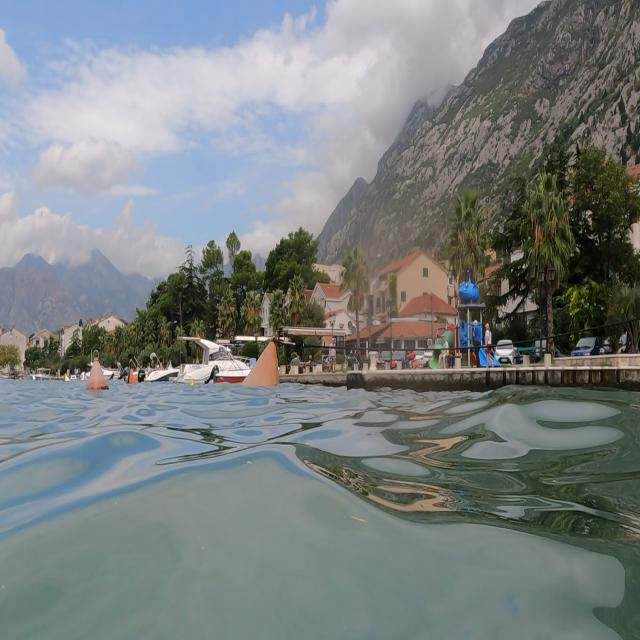boat: (179, 318, 256, 390), (140, 346, 184, 394)
buoy: (236, 328, 286, 403), (80, 347, 114, 399)
